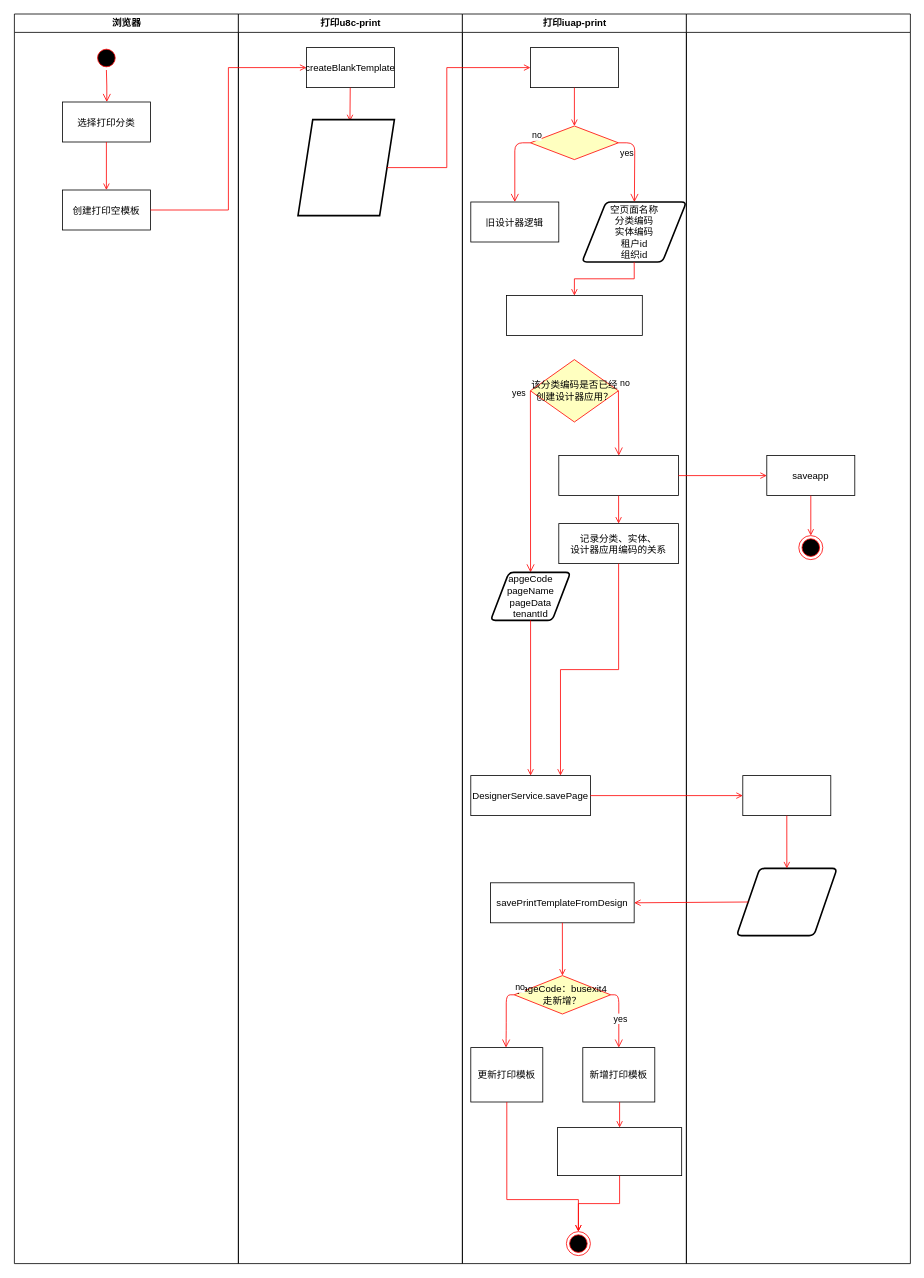
This 924x1278 diagram has some shape labels left out. The box of each missing label's shape, as (x1, y1, x2, y2) in pixels:
appCode tenantId tenantPageCode data pageName: (735, 867, 837, 936)
busiext4=tenantPgaeCode busiext5=1: (557, 1127, 682, 1176)
DesignerService.saveApp: (558, 455, 678, 496)
saveapppage: (742, 775, 831, 816)
saveprint: (530, 47, 618, 88)
savePrintTemplateToDesigner: (506, 295, 642, 336)
toDesigner=1？: (530, 125, 618, 160)
打印分类编码 二级分类编码 组织Id 实体编码 空模板编码 新设计器标签: (297, 118, 395, 216)
设计器后端: (686, 13, 910, 1264)
